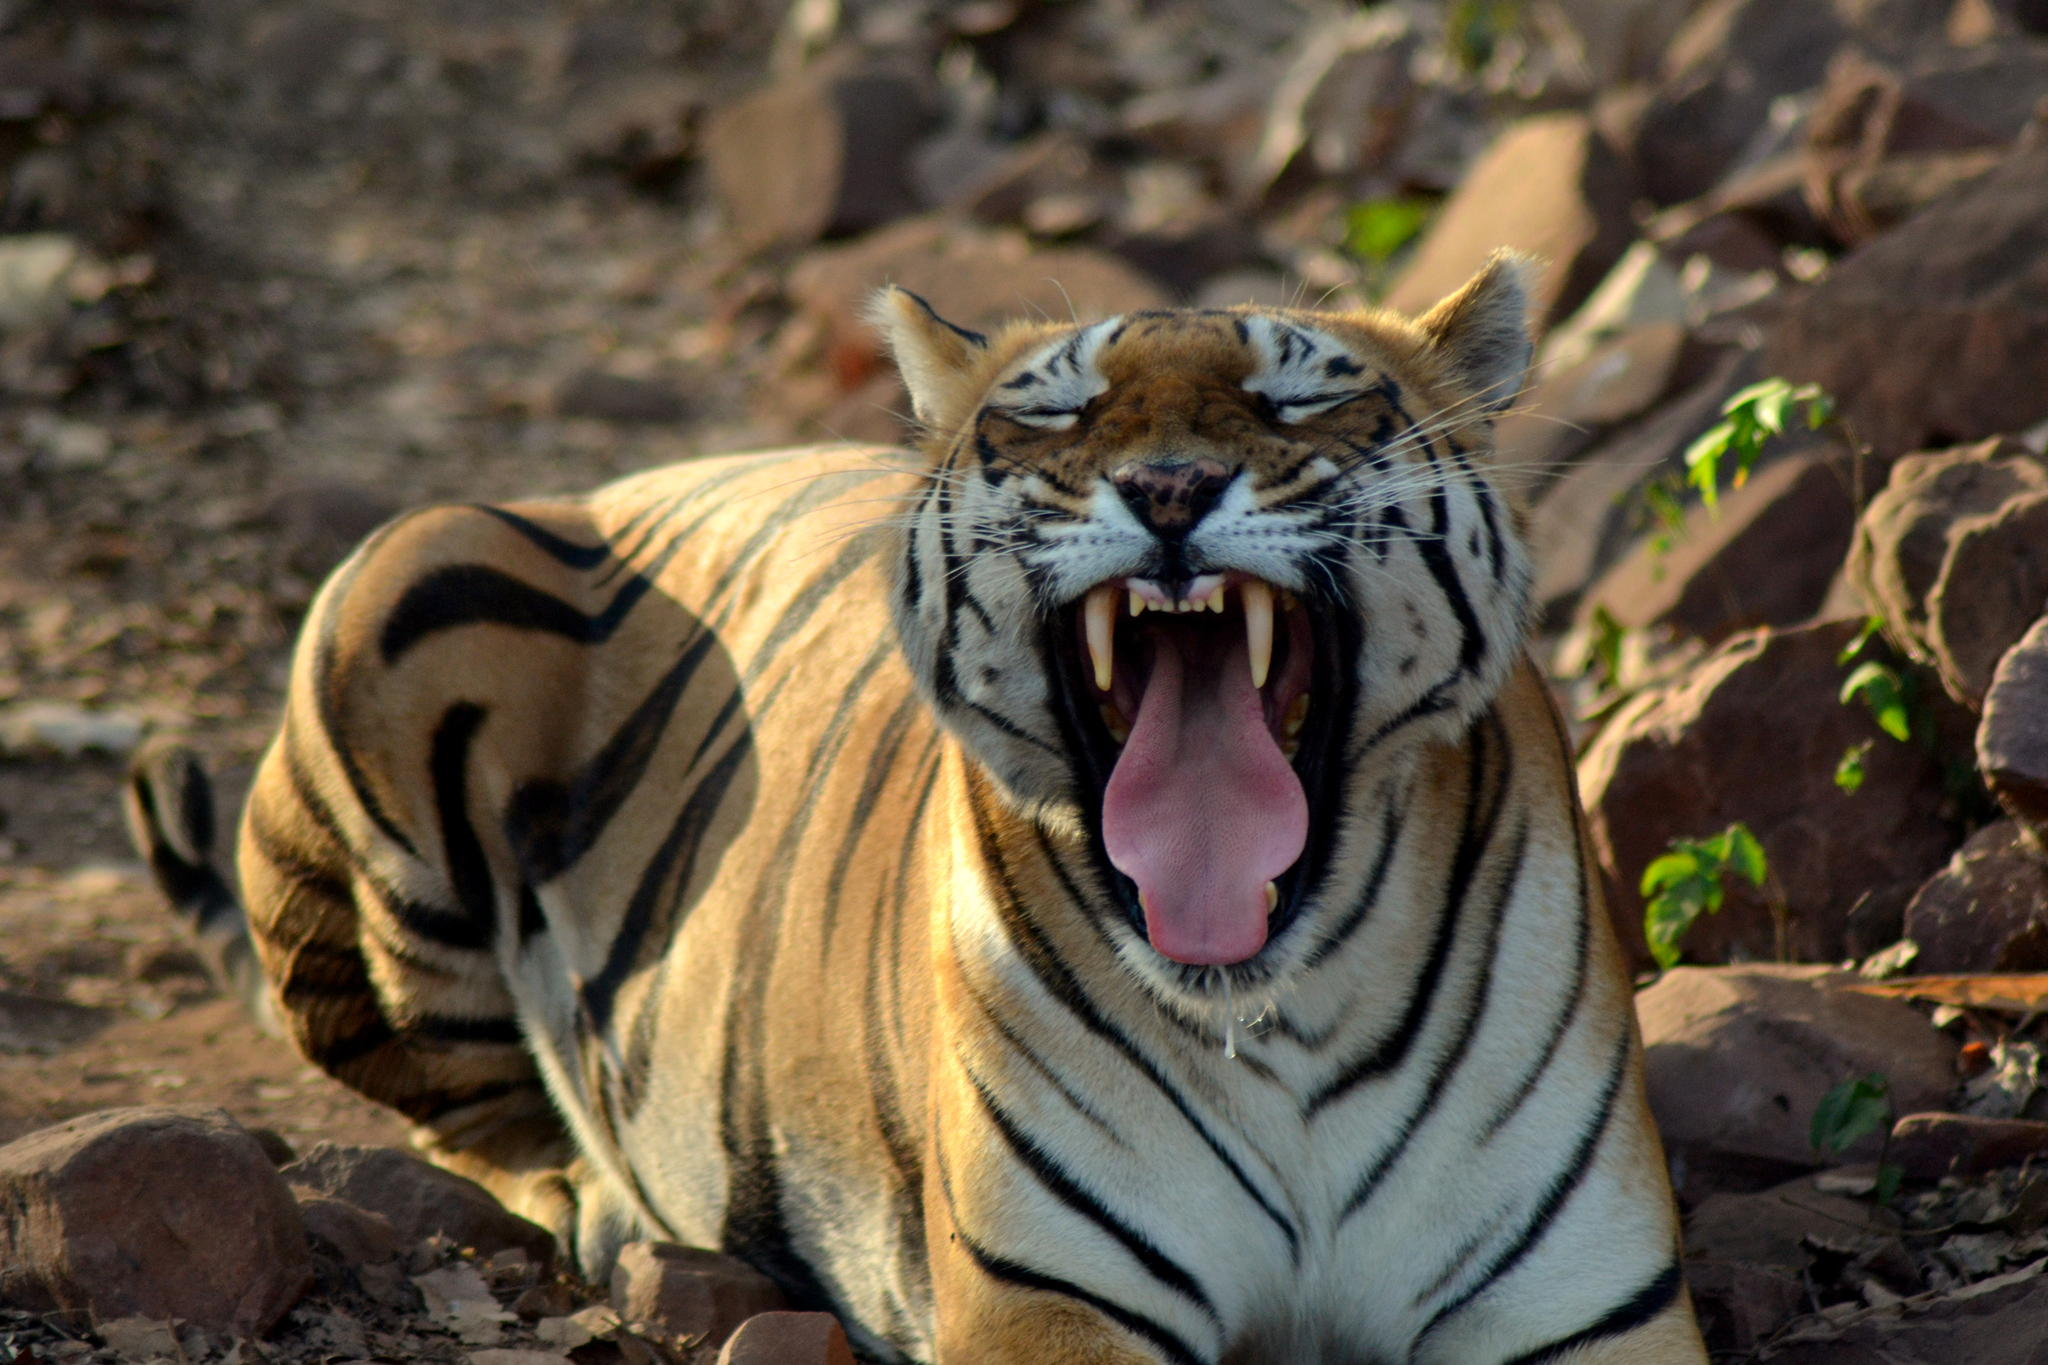tiger: (285, 296, 1731, 1307)
